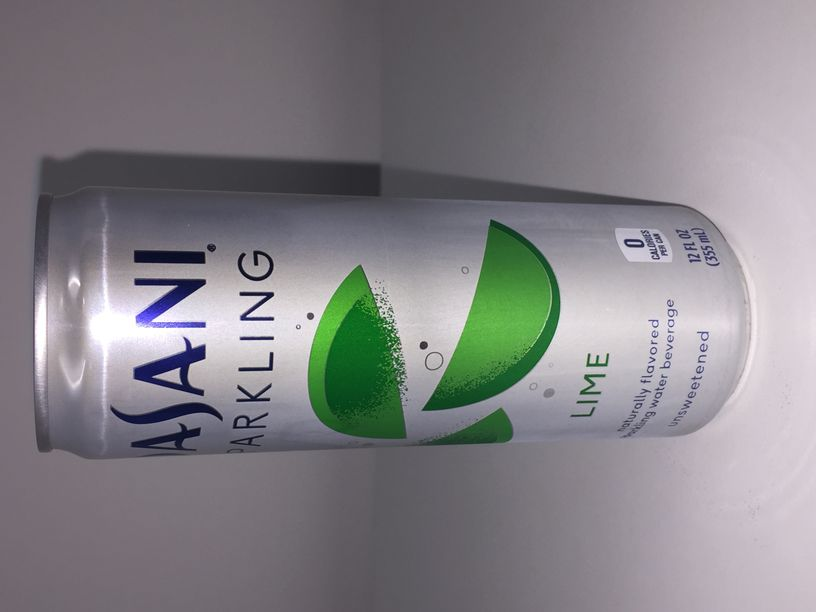lime: (32, 186, 747, 460)
